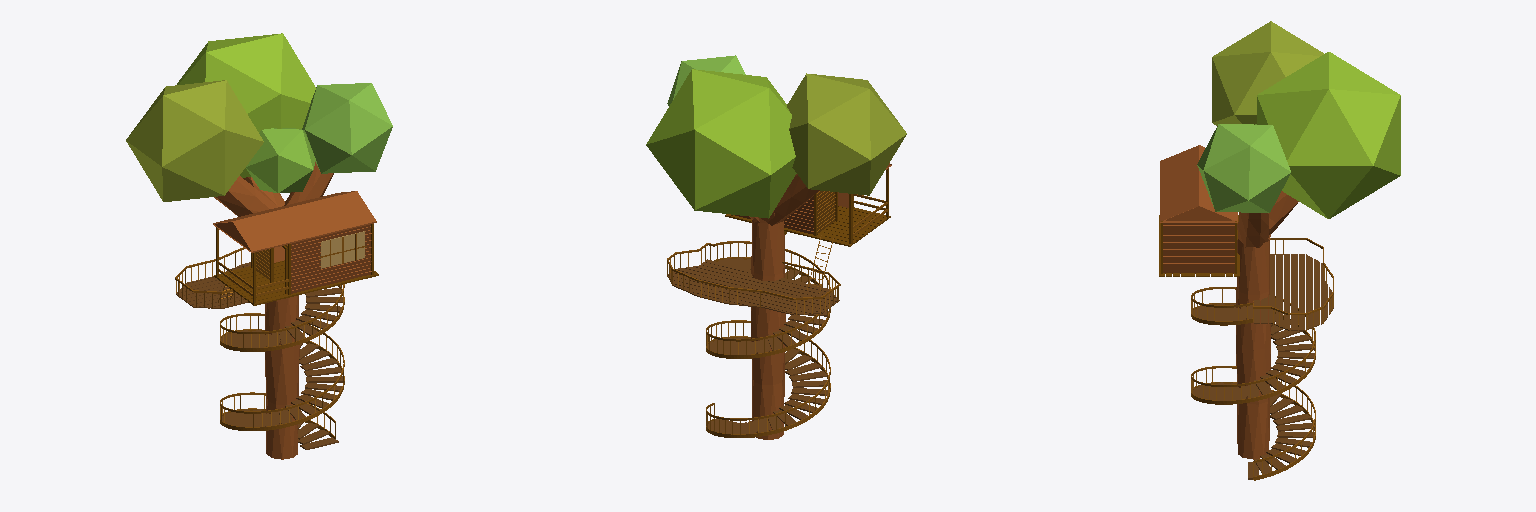
The model's file is treehouse1.obj.
The picture shows the model from 3 angles: view 1: azimuth 30°, elevation 25°; view 2: azimuth 150°, elevation 25°; view 3: azimuth 270°, elevation 25°; orthographic projection.
Bounding box in the file's own units: 1000 × 1576 × 899.